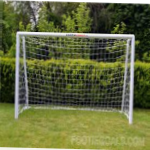goals: (12, 29, 136, 125)
